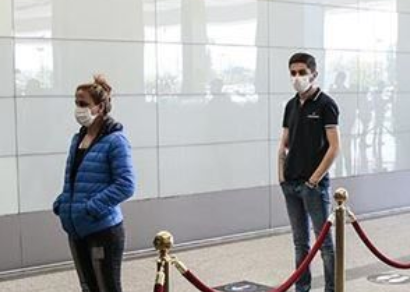Good: (50, 50, 342, 220)
